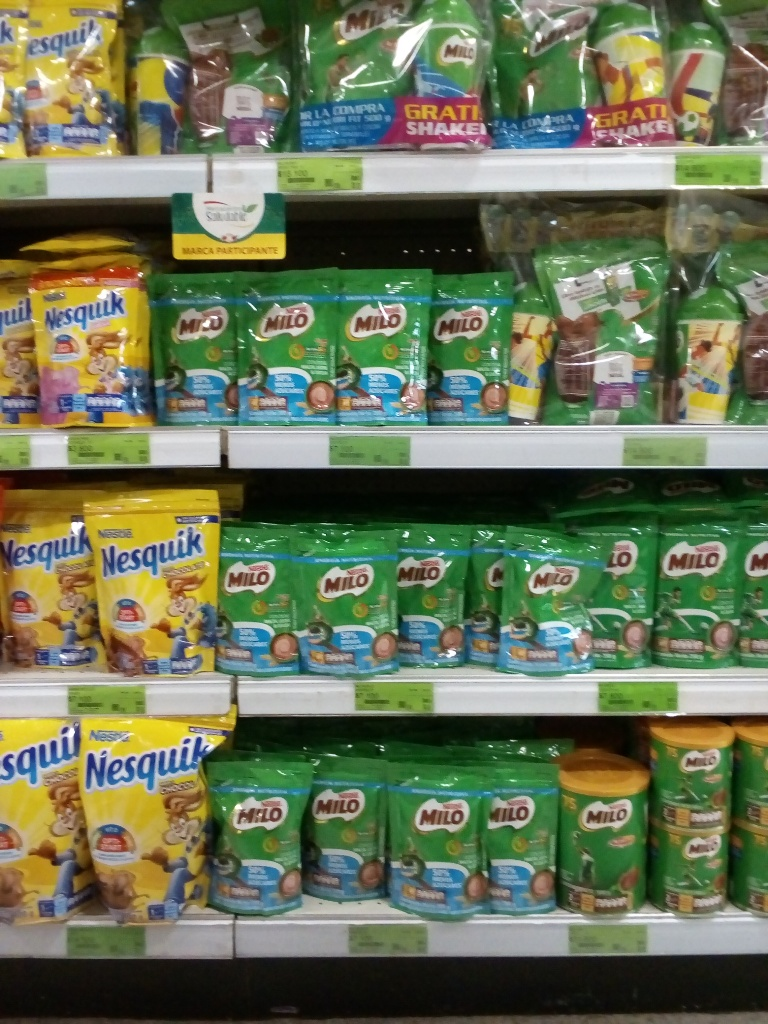COL0170203DYP10000: (738, 522, 768, 668)
COL0170203DYP25000: (651, 521, 741, 669)
COL0170203DYP50000: (527, 233, 668, 426)
COL0170203LAT40000: (646, 708, 736, 829)
COL0170205DYP20000: (144, 269, 242, 426)
COL0170205DYP50000: (299, 0, 416, 149)
COL0170303DYP20000: (17, 1, 128, 152)
